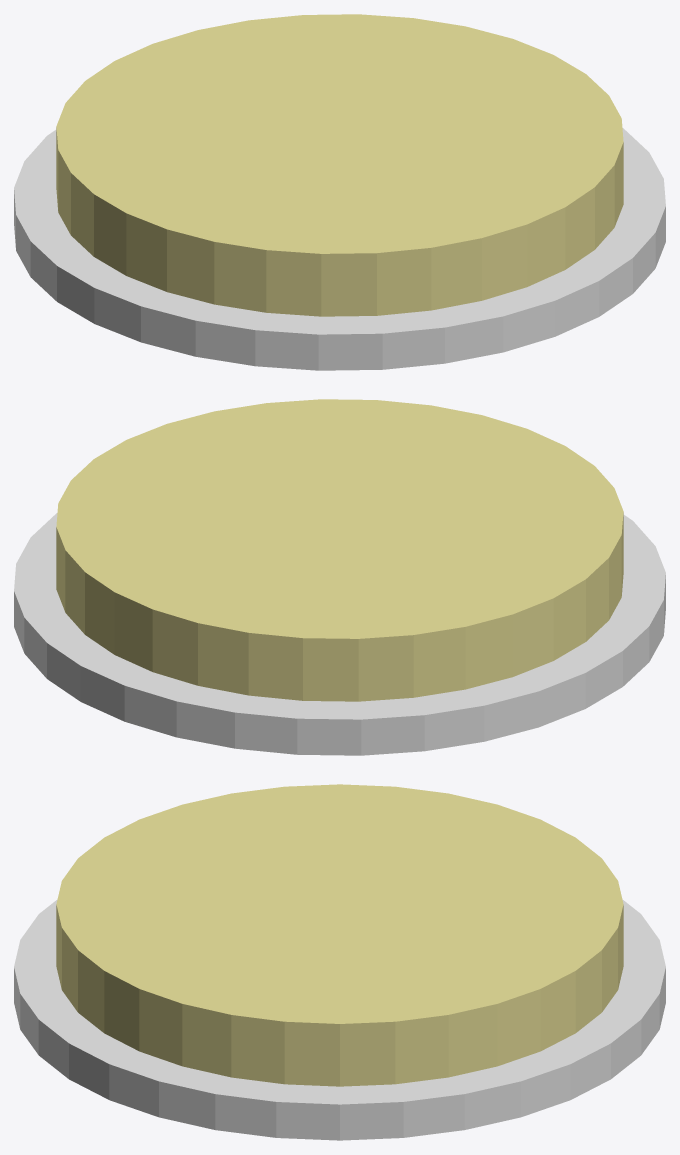
File: Light.fbx
3 views of the same model, one above another, from view 1: azimuth 30°, elevation 25°; view 2: azimuth 150°, elevation 25°; view 3: azimuth 270°, elevation 25° (orthographic).
Parts seen in each view (by area): view 1: Cylinder; view 2: Cylinder; view 3: Cylinder.
Boxes of the visible parts, box(x1,y1,x2,y2) form: Cylinder: box(14, 14, 665, 370); Cylinder: box(14, 399, 665, 755); Cylinder: box(14, 784, 665, 1140).
Bounding box in the file's own units: 433 × 72.24 × 433.
